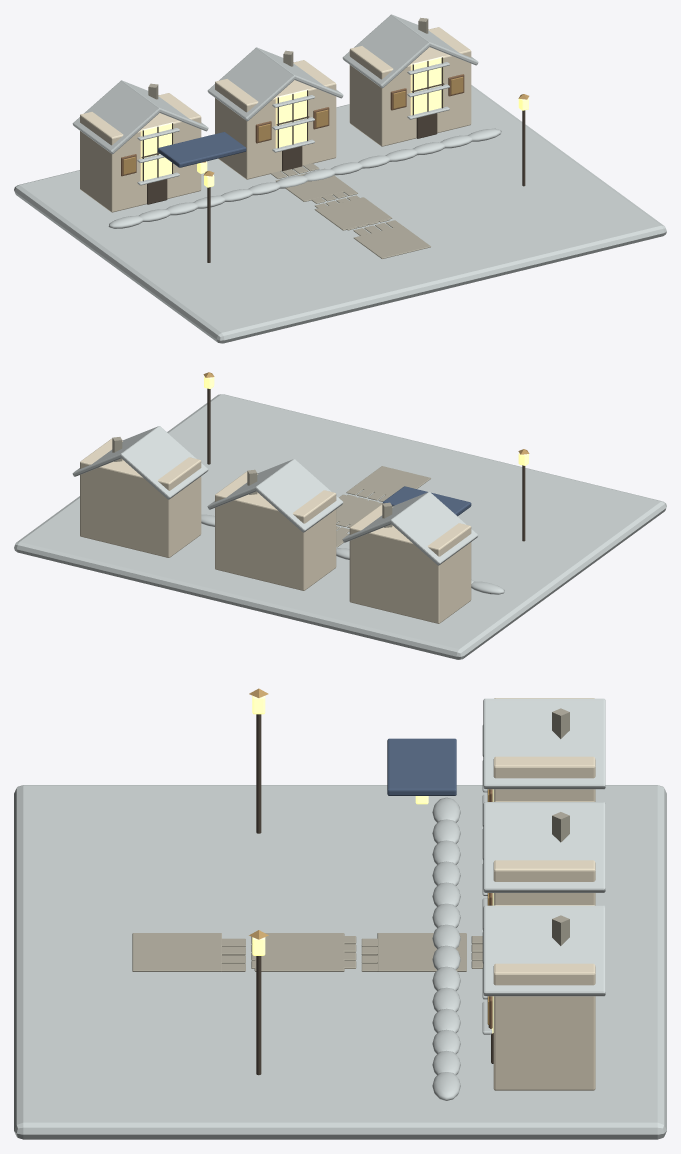
Rendered from match_street-DzP3zNqc.glb.
3 views of the same model, one above another, from view 1: azimuth 30°, elevation 25°; view 2: azimuth 150°, elevation 25°; view 3: azimuth 270°, elevation 25° (orthographic). The views are drawn at different scales.
Visible parts, largest first — view 1: world_snow.040, world_cream.040, world_stone.040, world_Window pearl glow.003, world_darkwood.040, world_Story primary.015, world_brass.040, world_wood.040; view 2: world_snow.040, world_cream.040, world_stone.040, world_Story primary.015, world_darkwood.040; view 3: world_snow.040, world_cream.040, world_stone.040, world_Story primary.015, world_darkwood.040.
Boxes of the visible parts, box(x1,y1,x2,y2) form: world_snow.040: box(14, 14, 666, 343); world_cream.040: box(80, 27, 471, 212); world_stone.040: box(148, 17, 430, 258); world_Window pearl glow.003: box(140, 56, 443, 181); world_darkwood.040: box(141, 57, 525, 262); world_Story primary.015: box(157, 132, 246, 167); world_brass.040: box(123, 77, 529, 176); world_wood.040: box(121, 74, 464, 176); world_snow.040: box(14, 394, 666, 659); world_cream.040: box(80, 438, 471, 623); world_stone.040: box(112, 437, 430, 547); world_Story primary.015: box(383, 486, 471, 516); world_darkwood.040: box(207, 388, 525, 541); world_snow.040: box(14, 698, 666, 1139); world_cream.040: box(493, 698, 595, 1090); world_stone.040: box(132, 708, 569, 971); world_Story primary.015: box(387, 738, 456, 795); world_darkwood.040: box(256, 714, 493, 1075).
Size of the model in its own units: 20 by 4.56 by 16.
